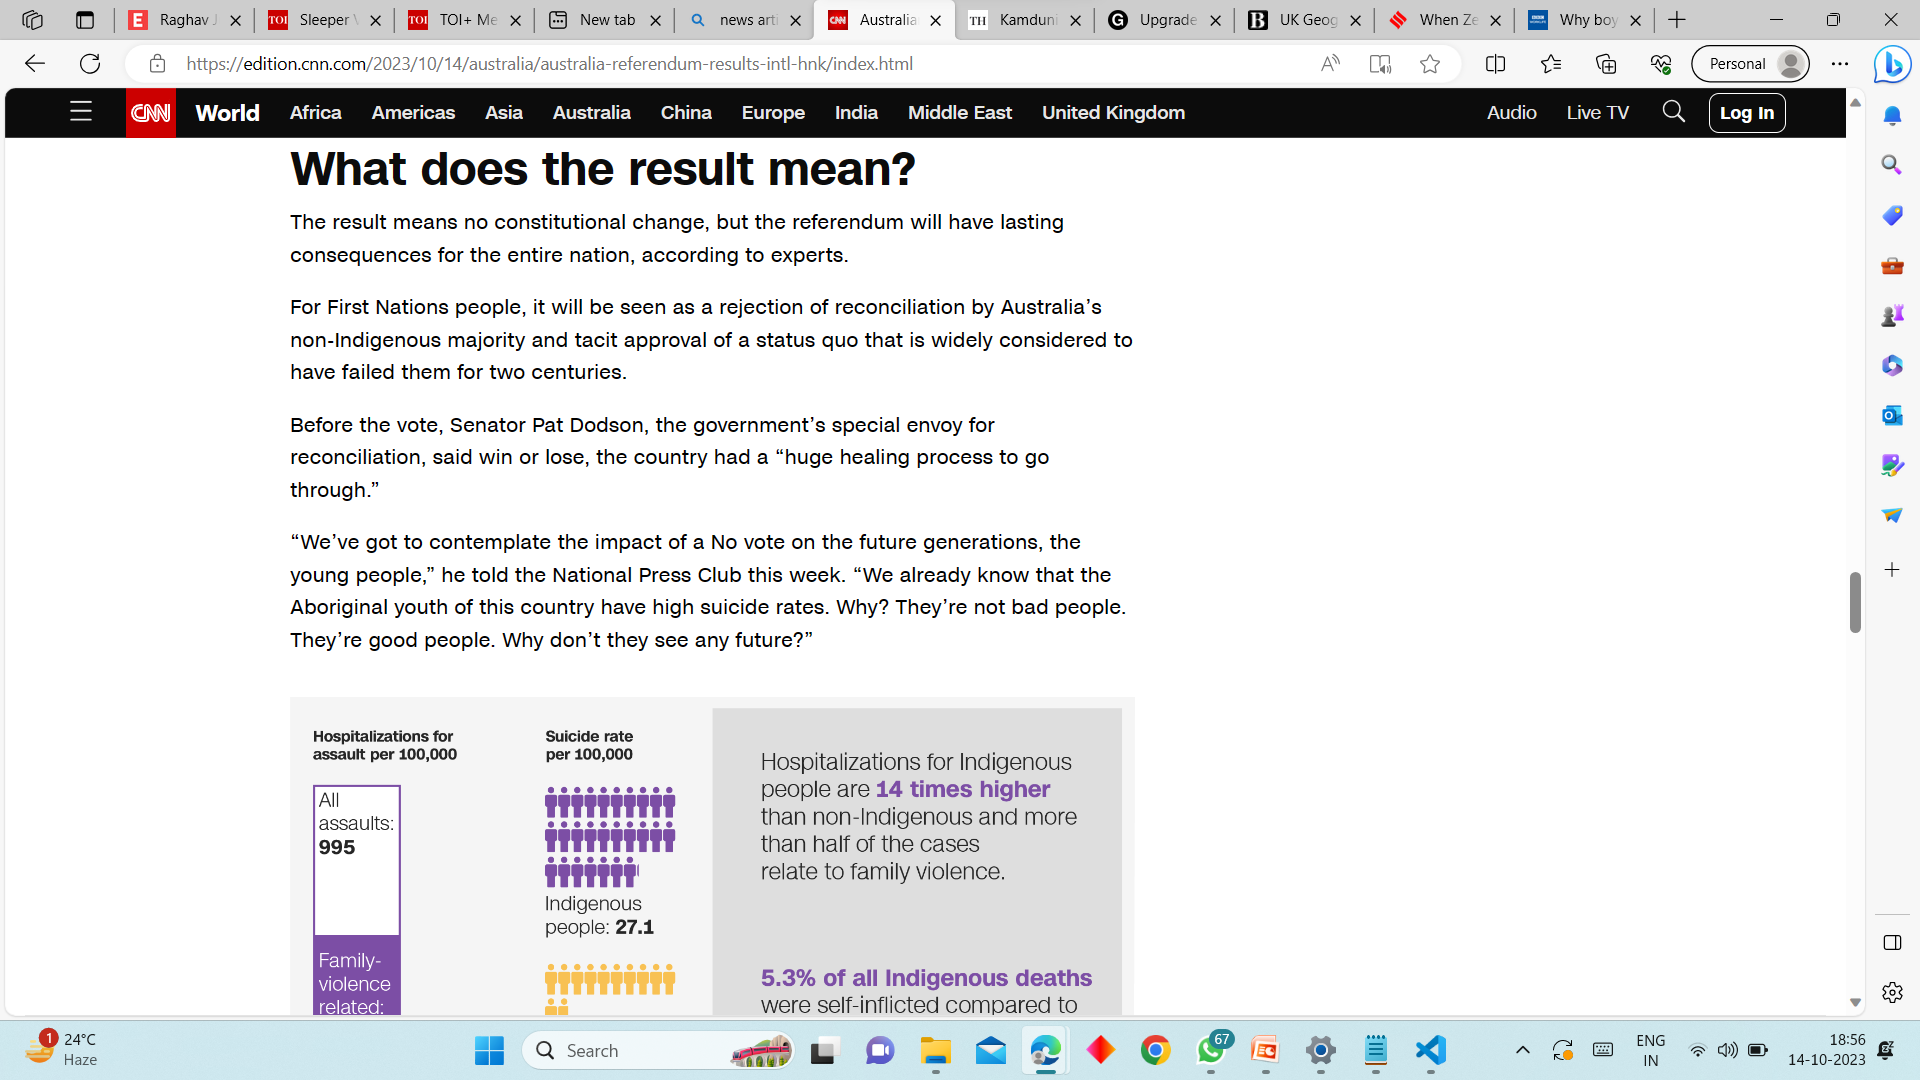Image: (284, 698, 1122, 1022), (51, 84, 109, 136), (128, 87, 177, 129), (1662, 92, 1691, 123)
Paragraph: (277, 517, 1209, 662), (276, 284, 1170, 398), (266, 401, 1093, 510), (270, 199, 1106, 266), (276, 145, 975, 195), (899, 83, 1035, 148), (1044, 87, 1215, 136), (369, 94, 463, 138), (649, 84, 731, 135), (1472, 99, 1549, 150), (541, 92, 630, 136), (1559, 96, 1642, 141), (1716, 87, 1782, 136), (742, 92, 820, 129), (195, 92, 266, 132), (829, 92, 887, 135), (290, 92, 353, 123), (473, 92, 517, 129)
